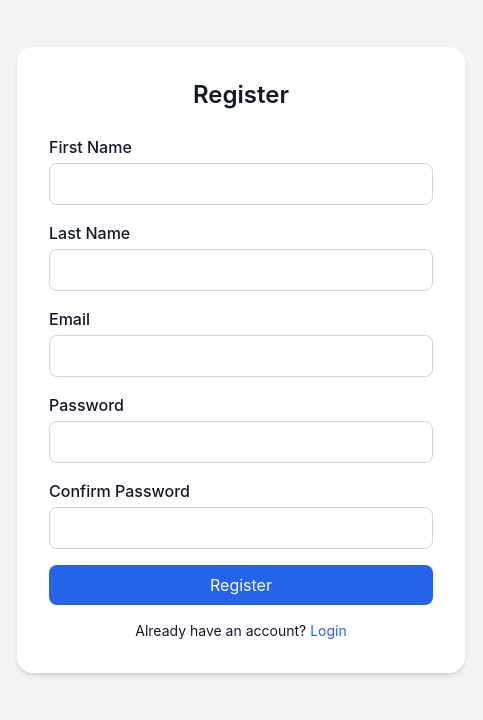
Test: Register Page › shows validation messages on empty form submit
Click the button with test id "submit".
click(241, 585)  # box [49, 565, 433, 605]
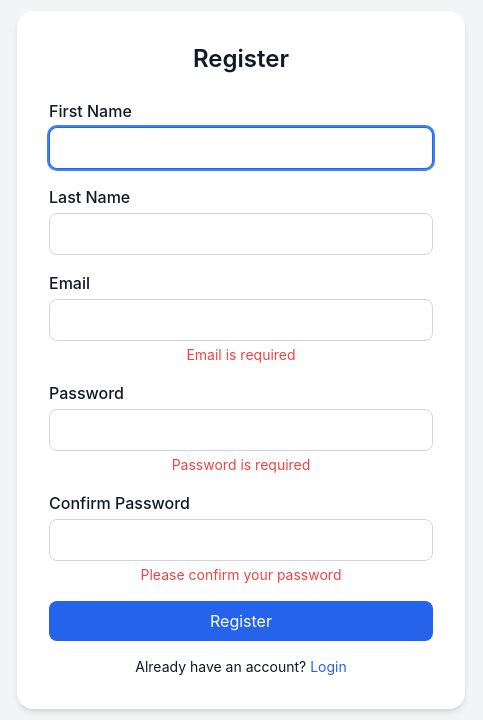
Expected: the text "Email is required" is shown, [186, 346, 296, 363]
Expected: the text "Password is required" is shown, [172, 456, 310, 473]
Expected: the text "Please confirm your password" is shown, [140, 566, 342, 583]
